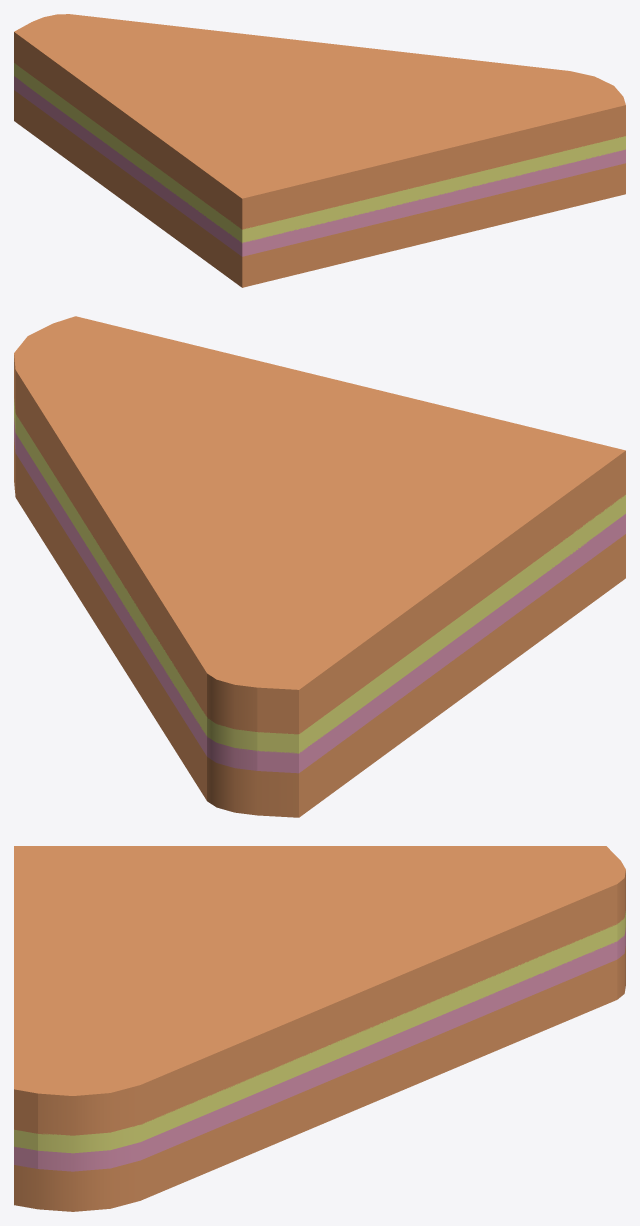
Rendered from sendvic_2 (1).fbx.
The picture shows the model from 3 angles, top to bottom: view 1: azimuth 30°, elevation 25°; view 2: azimuth 150°, elevation 25°; view 3: azimuth 270°, elevation 25°; orthographic projection. The views are drawn at different scales.
Parts seen in each view (by area): view 1: Cube.004; view 2: Cube.004; view 3: Cube.004.
Boxes of the visible parts, x1,y1,x2,y2 form: Cube.004: [14, 14, 625, 287]; Cube.004: [14, 316, 625, 817]; Cube.004: [14, 846, 625, 1211].
Size of the model in its own units: 208 by 44.85 by 215.
